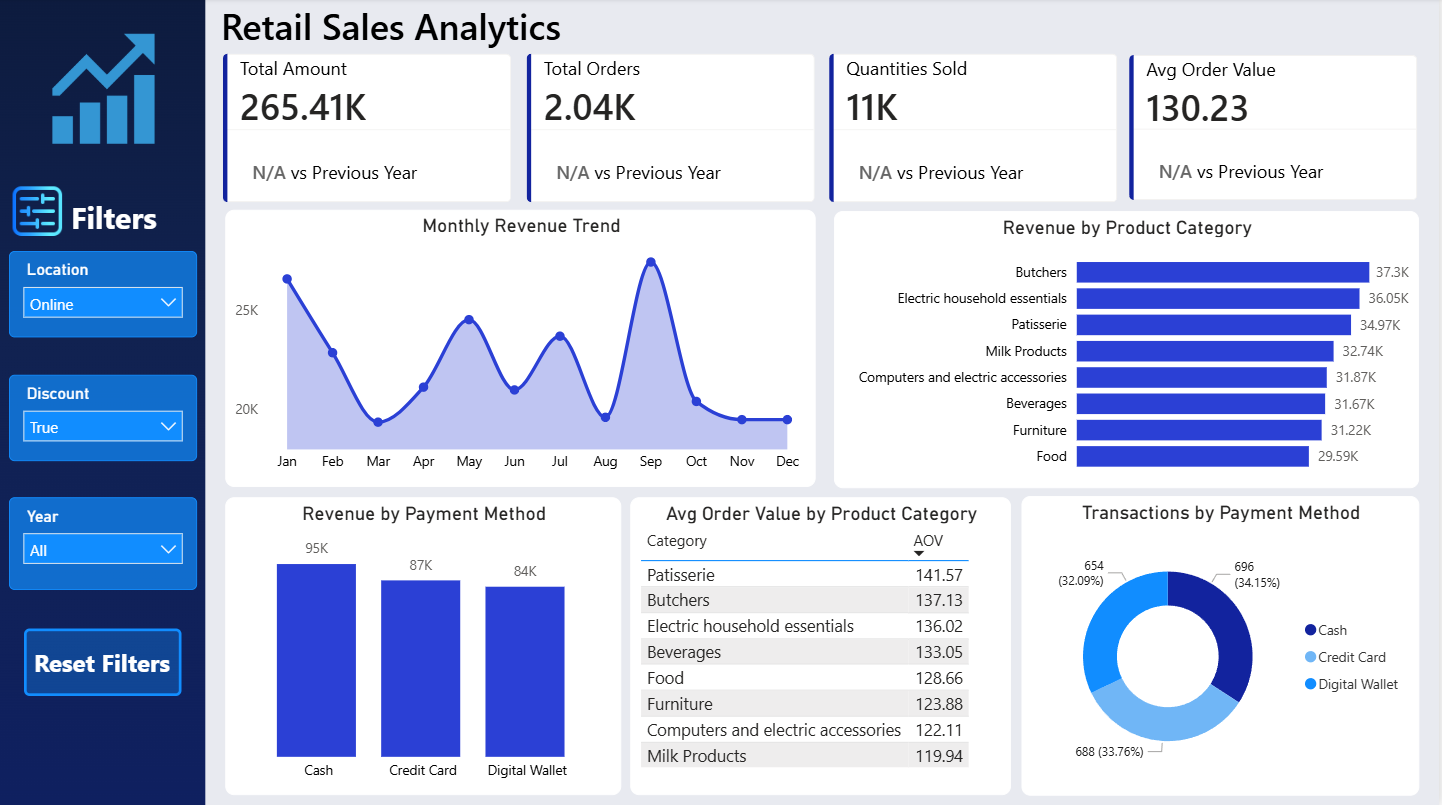

The dashboard page shown, as its layout file describes it:
{"tool":"powerbi","page":{"name":"Page 1","canvas":[1280,720],"ordinal":0},"visuals":[{"type":"textbox","box":[191.9,0,340.7,60.5],"z":0},{"type":"areaChart","title":"Monthly Revenue Trend","fields":{"Y":["cleaned_data.Total Amount"],"Category":["cleaned_data.Month Abbreviation"]},"box":[201.2,190,525,246.2],"z":1000},{"type":"clusteredBarChart","title":"Revenue by Product Category","fields":{"Y":["cleaned_data.Total Amount"],"Category":["cleaned_data.Category"]},"box":[742.5,191.2,520,246.2],"z":2000},{"type":"tableEx","title":"Avg Order Value by Product Category","fields":{"Values":["cleaned_data.Category","cleaned_data.Avg Transaction Value"]},"box":[561.2,445,338.8,265],"z":3000},{"type":"clusteredColumnChart","title":"Revenue by Payment Method","fields":{"Category":["cleaned_data.Payment Method"],"Y":["cleaned_data.Total Amount"]},"box":[201.5,445.3,351.8,264.9],"z":4000},{"type":"donutChart","title":"Transactions by Payment Method","fields":{"Category":["cleaned_data.Payment Method"],"Y":["CountNonNull(cleaned_data.Payment Method)"]},"box":[909.3,444.2,353.5,266.3],"z":5000},{"type":"slicer","fields":{"Values":["cleaned_data.Transaction Date.Variation.Date Hierarchy.Year"]},"box":[8.9,445.3,167,82.4],"z":6000},{"type":"slicer","fields":{"Values":["cleaned_data.Discount Applied"]},"box":[8.9,336.2,167,76.8],"z":7000},{"type":"slicer","fields":{"Values":["cleaned_data.Location"]},"box":[8.9,227.1,167,76.8],"z":8000},{"type":"cardVisual","fields":{"Data":["cleaned_data.Total Amount"]},"box":[182,34.9,290,166.3],"z":9000},{"type":"cardVisual","fields":{"Data":["Count(cleaned_data.Transaction ID)"]},"box":[452.3,34.9,290,166.3],"z":10000},{"type":"cardVisual","fields":{"Data":["cleaned_data.Quantites Sold"]},"box":[721,34.9,290,166.3],"z":11000},{"type":"cardVisual","fields":{"Data":["cleaned_data.Avg Transaction Value"]},"box":[988,36,290,164],"z":12000},{"type":"image","box":[8.9,164.8,50.1,53.4],"z":13000},{"type":"textbox","box":[58.8,173.8,121.2,53.8],"z":14000},{"type":"actionButton","box":[22.5,562.5,140,60],"z":15000},{"type":"image","box":[34.5,30.1,116.9,104.6],"z":16000}]}

Visuals, with their boxes in screenshot pixels (x1, y1, x2, y2), scaled from the page's 1280x720 canvas onto the 1442x805 screenshot:
textbox: crop(216, 0, 600, 68)
"Monthly Revenue Trend" areaChart: crop(227, 212, 818, 488)
"Revenue by Product Category" clusteredBarChart: crop(836, 214, 1422, 489)
"Avg Order Value by Product Category" tableEx: crop(632, 498, 1014, 794)
"Revenue by Payment Method" clusteredColumnChart: crop(227, 498, 623, 794)
"Transactions by Payment Method" donutChart: crop(1024, 497, 1423, 794)
slicer - cleaned_data.Transaction Date.Variation.Date Hierarchy.Year: crop(10, 498, 198, 590)
slicer - cleaned_data.Discount Applied: crop(10, 376, 198, 462)
slicer - cleaned_data.Location: crop(10, 254, 198, 340)
cardVisual - cleaned_data.Total Amount: crop(205, 39, 532, 225)
cardVisual - Count(cleaned_data.Transaction ID): crop(510, 39, 836, 225)
cardVisual - cleaned_data.Quantites Sold: crop(812, 39, 1139, 225)
cardVisual - cleaned_data.Avg Transaction Value: crop(1113, 40, 1440, 224)
image: crop(10, 184, 66, 244)
textbox: crop(66, 194, 203, 254)
actionButton: crop(25, 629, 183, 696)
image: crop(39, 34, 171, 151)
